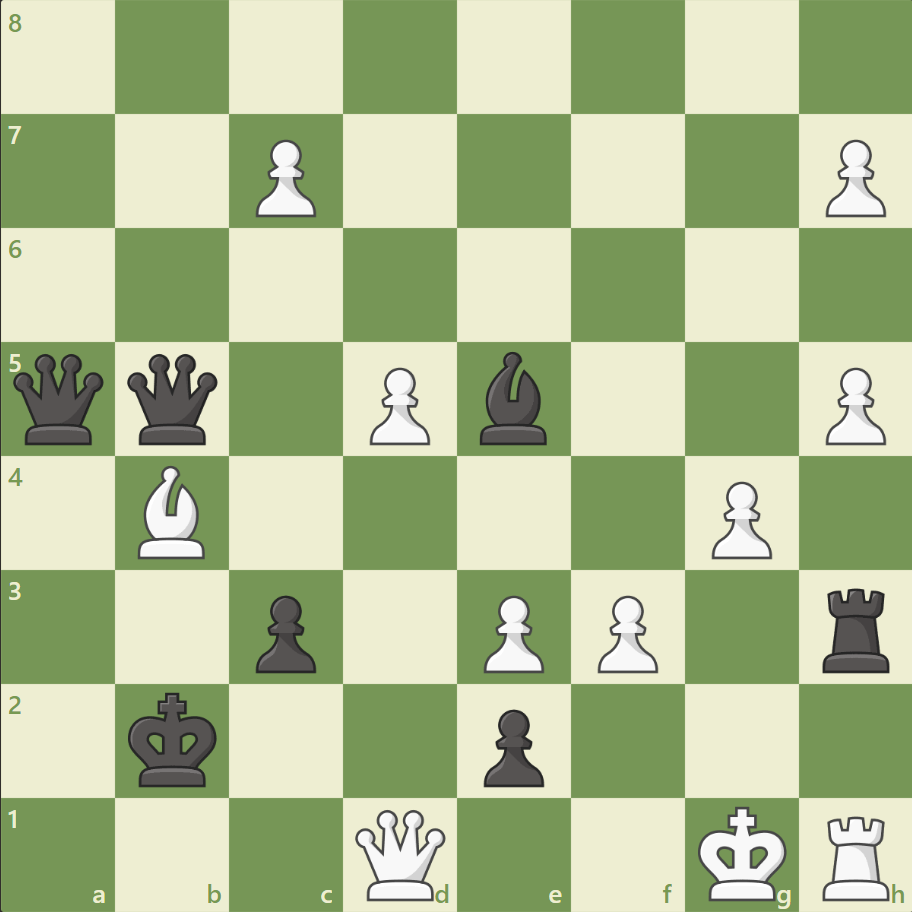B: (131, 460, 215, 563)
K: (692, 798, 792, 906)
P: (247, 132, 322, 223), (701, 473, 776, 564), (474, 586, 549, 677), (815, 132, 889, 223), (361, 359, 435, 450), (815, 359, 889, 450), (588, 586, 662, 677)
Q: (351, 804, 450, 903)
R: (814, 806, 897, 904)
b: (471, 347, 555, 449)
k: (124, 685, 224, 793)
p: (247, 586, 322, 677), (474, 700, 549, 791)
q: (10, 349, 109, 449), (124, 349, 223, 449)
r: (814, 579, 897, 676)
